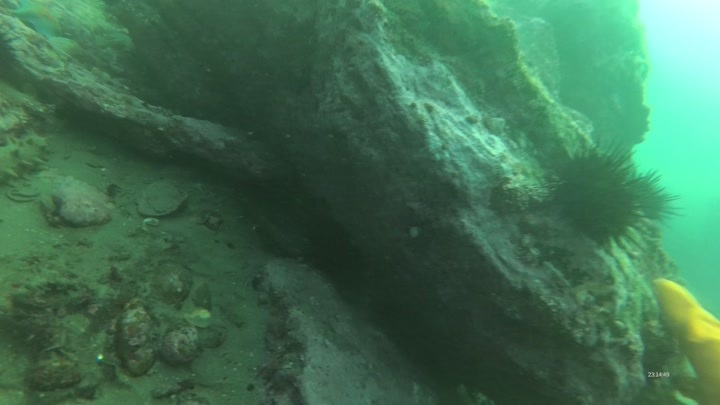echinus: (553, 139, 649, 253), (638, 167, 683, 228)
holothurian: (1, 126, 51, 188)
starfish: (13, 1, 66, 40), (46, 35, 89, 63), (103, 32, 139, 56)
